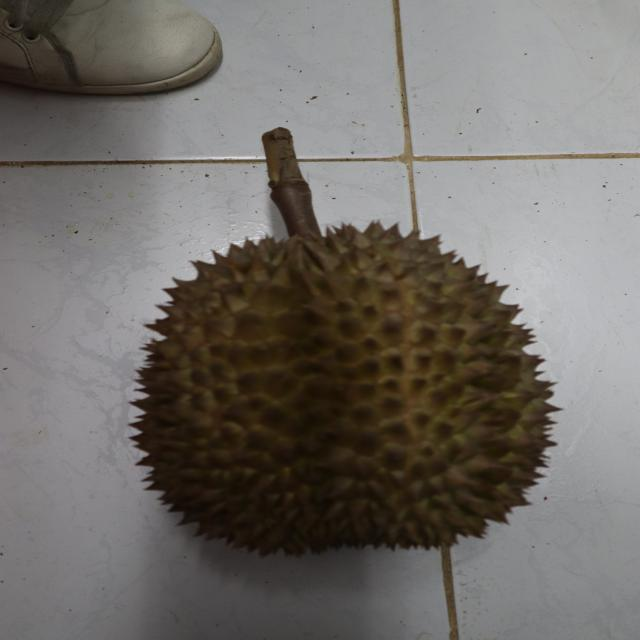mature: (123, 216, 560, 555)
